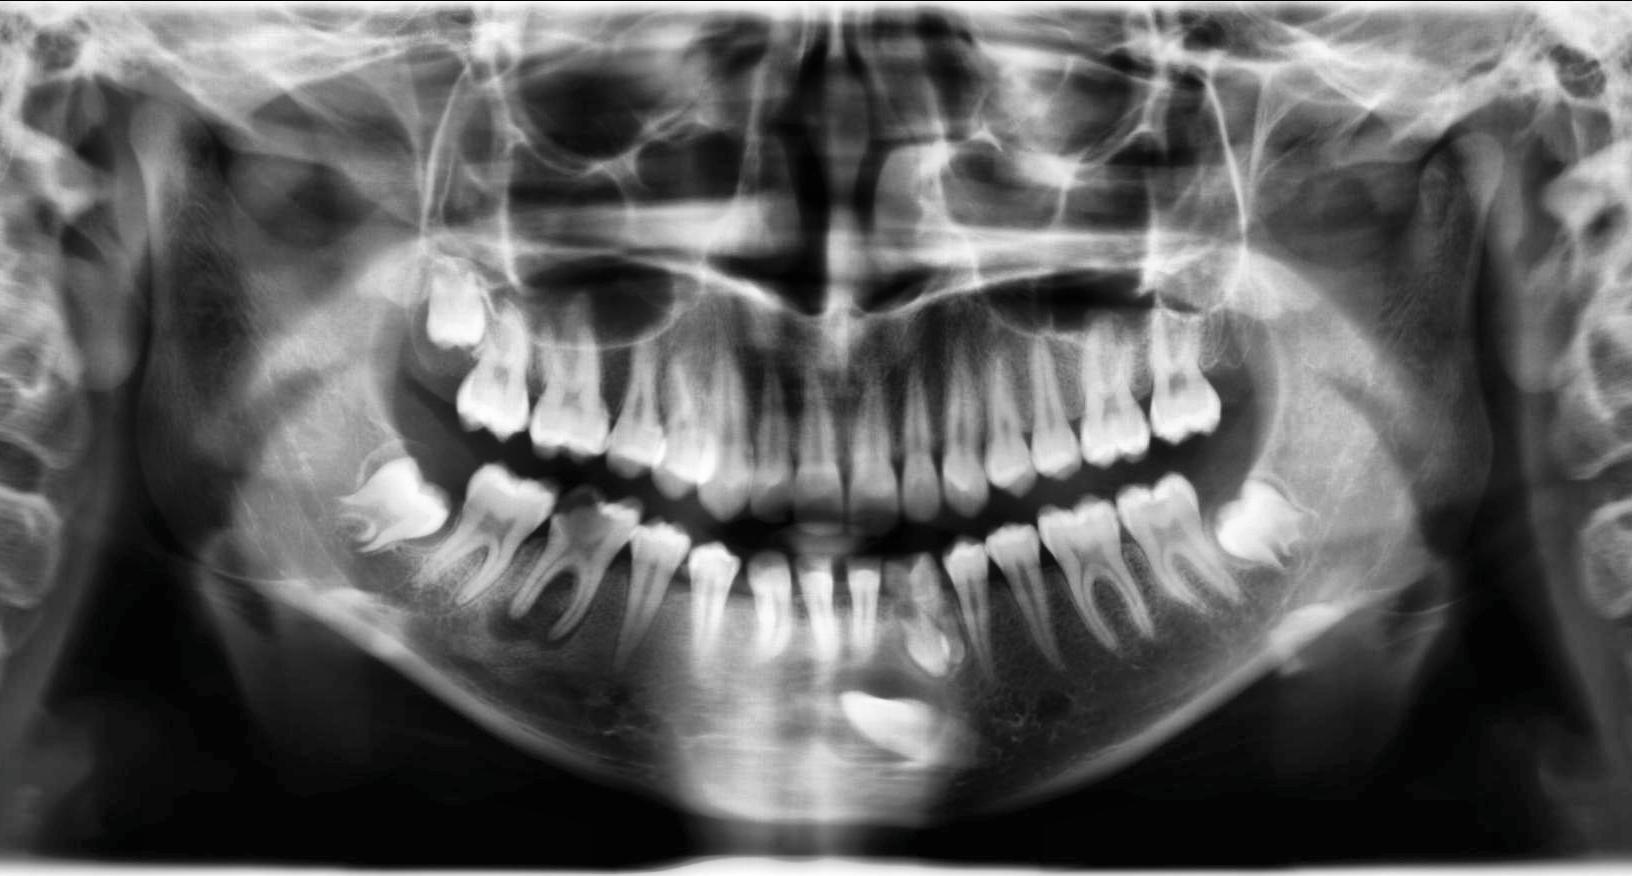dentigeroz: (817, 660, 954, 768)
